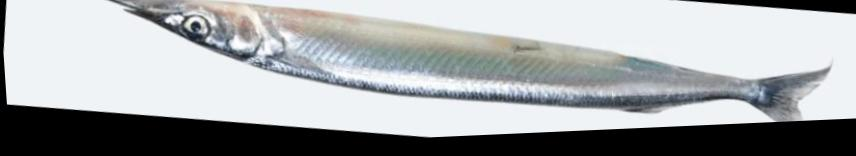fish: (101, 0, 827, 129)
